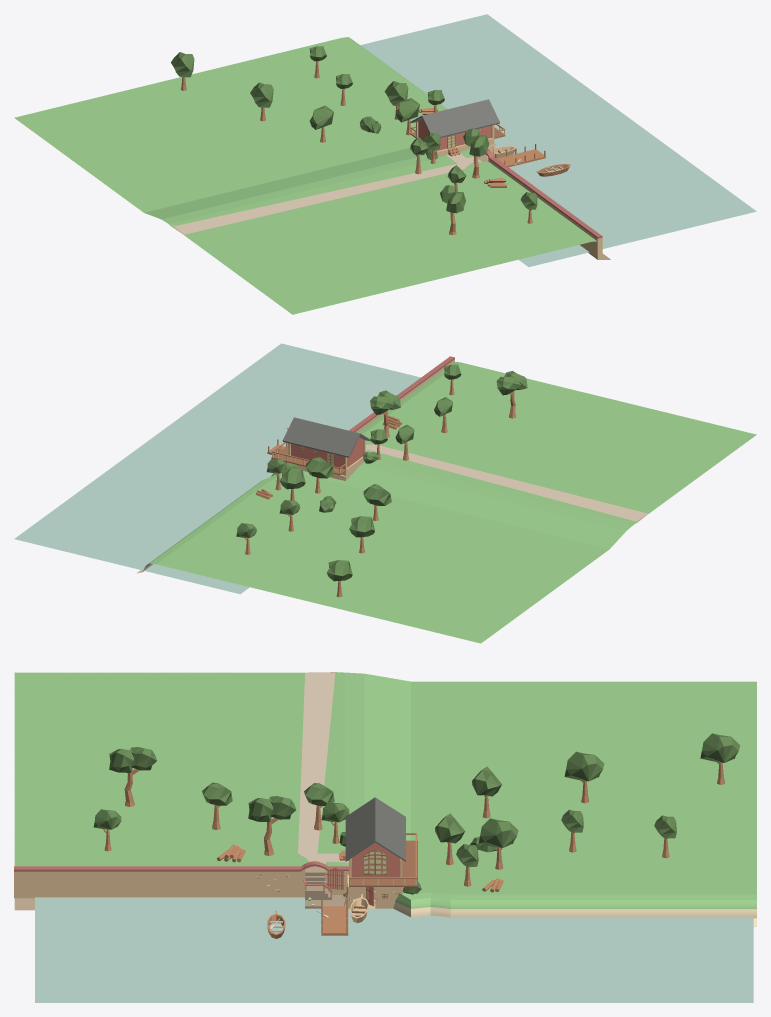
Rendered from Low_Poly_Boat_Yard.fbx.
3 renders of one model, top to bottom at view 1: azimuth 30°, elevation 25°; view 2: azimuth 150°, elevation 25°; view 3: azimuth 270°, elevation 25°, orthographic. The views are drawn at different scales.
Visible parts, largest first — view 1: Ground, Water, House, Wall; view 2: Ground, Water, House, Wall; view 3: Ground, Water, Wall, House, Tree_leaves (×5), Yard.
Boxes of the visible parts, box(x1,y1,x2,y2) form: Ground: box(14, 37, 610, 314); Water: box(360, 14, 756, 266); House: box(410, 99, 505, 160); Wall: box(482, 149, 602, 258); Ground: box(137, 362, 756, 643); Water: box(14, 343, 420, 594); House: box(271, 417, 370, 480); Wall: box(349, 356, 454, 432); Ground: box(14, 672, 756, 926); Water: box(35, 897, 753, 1002); Wall: box(14, 861, 348, 898); House: box(345, 797, 417, 908); Tree_leaves (×5): box(435, 733, 740, 847); Yard: box(305, 895, 348, 935).
Size of the model in its own units: 9819 by 1320 by 10028.
2 materials, 2 textured.
